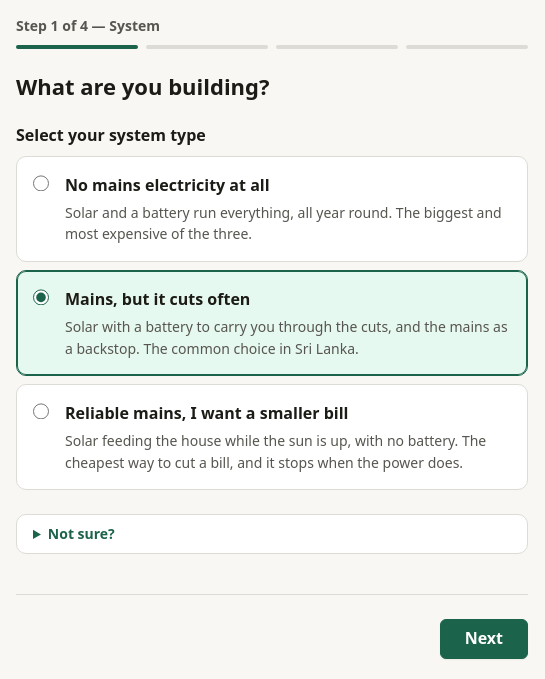
it: Wizard › reports progress and names the current screen
Expected: the text "Step 1 of 4 — System" is shown, x1=16 y1=16 x2=160 y2=35
Click the button "Next": (484, 639) x1=440 y1=619 x2=528 y2=659
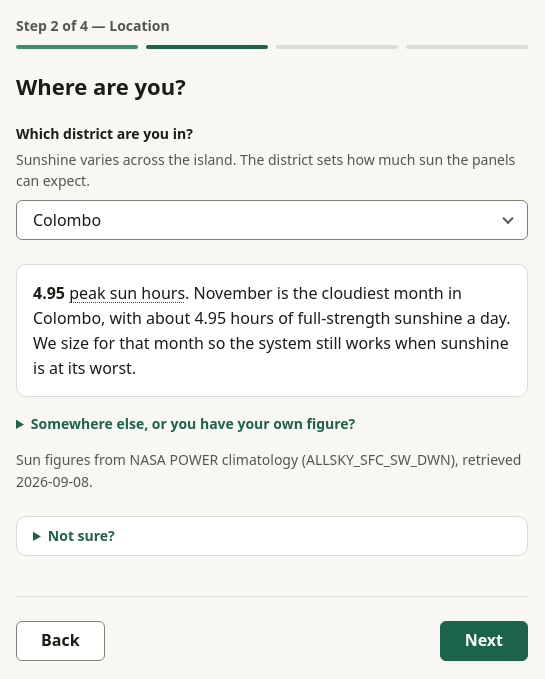
Result: the text "Step 2 of 4 — Location" is shown at x1=16 y1=16 x2=170 y2=35
